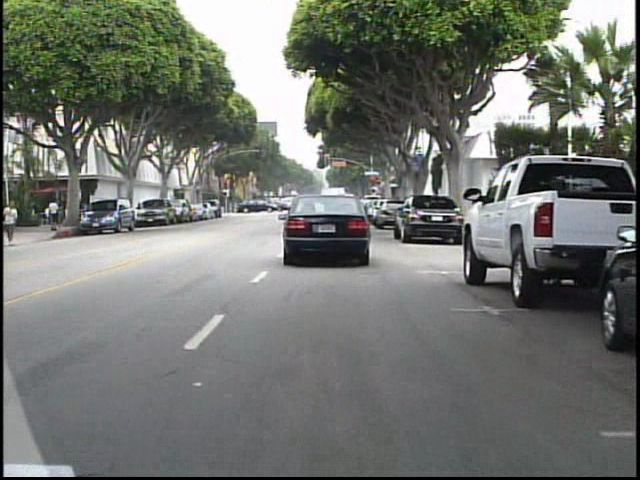person: (4, 194, 24, 251), (49, 194, 65, 232), (267, 193, 281, 217)
